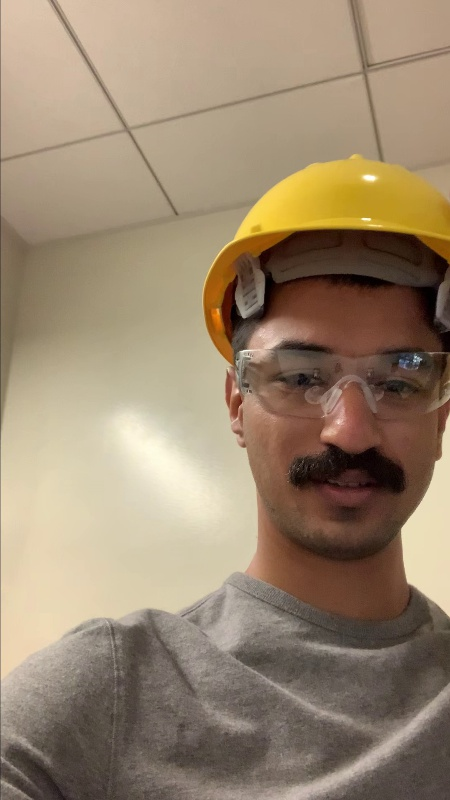glasses: (234, 338, 449, 426)
helmet: (191, 155, 450, 324)
